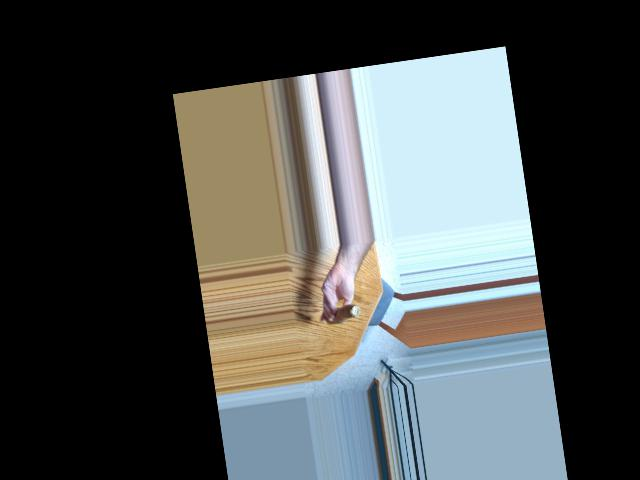sweet_potato: (321, 293, 367, 327)
